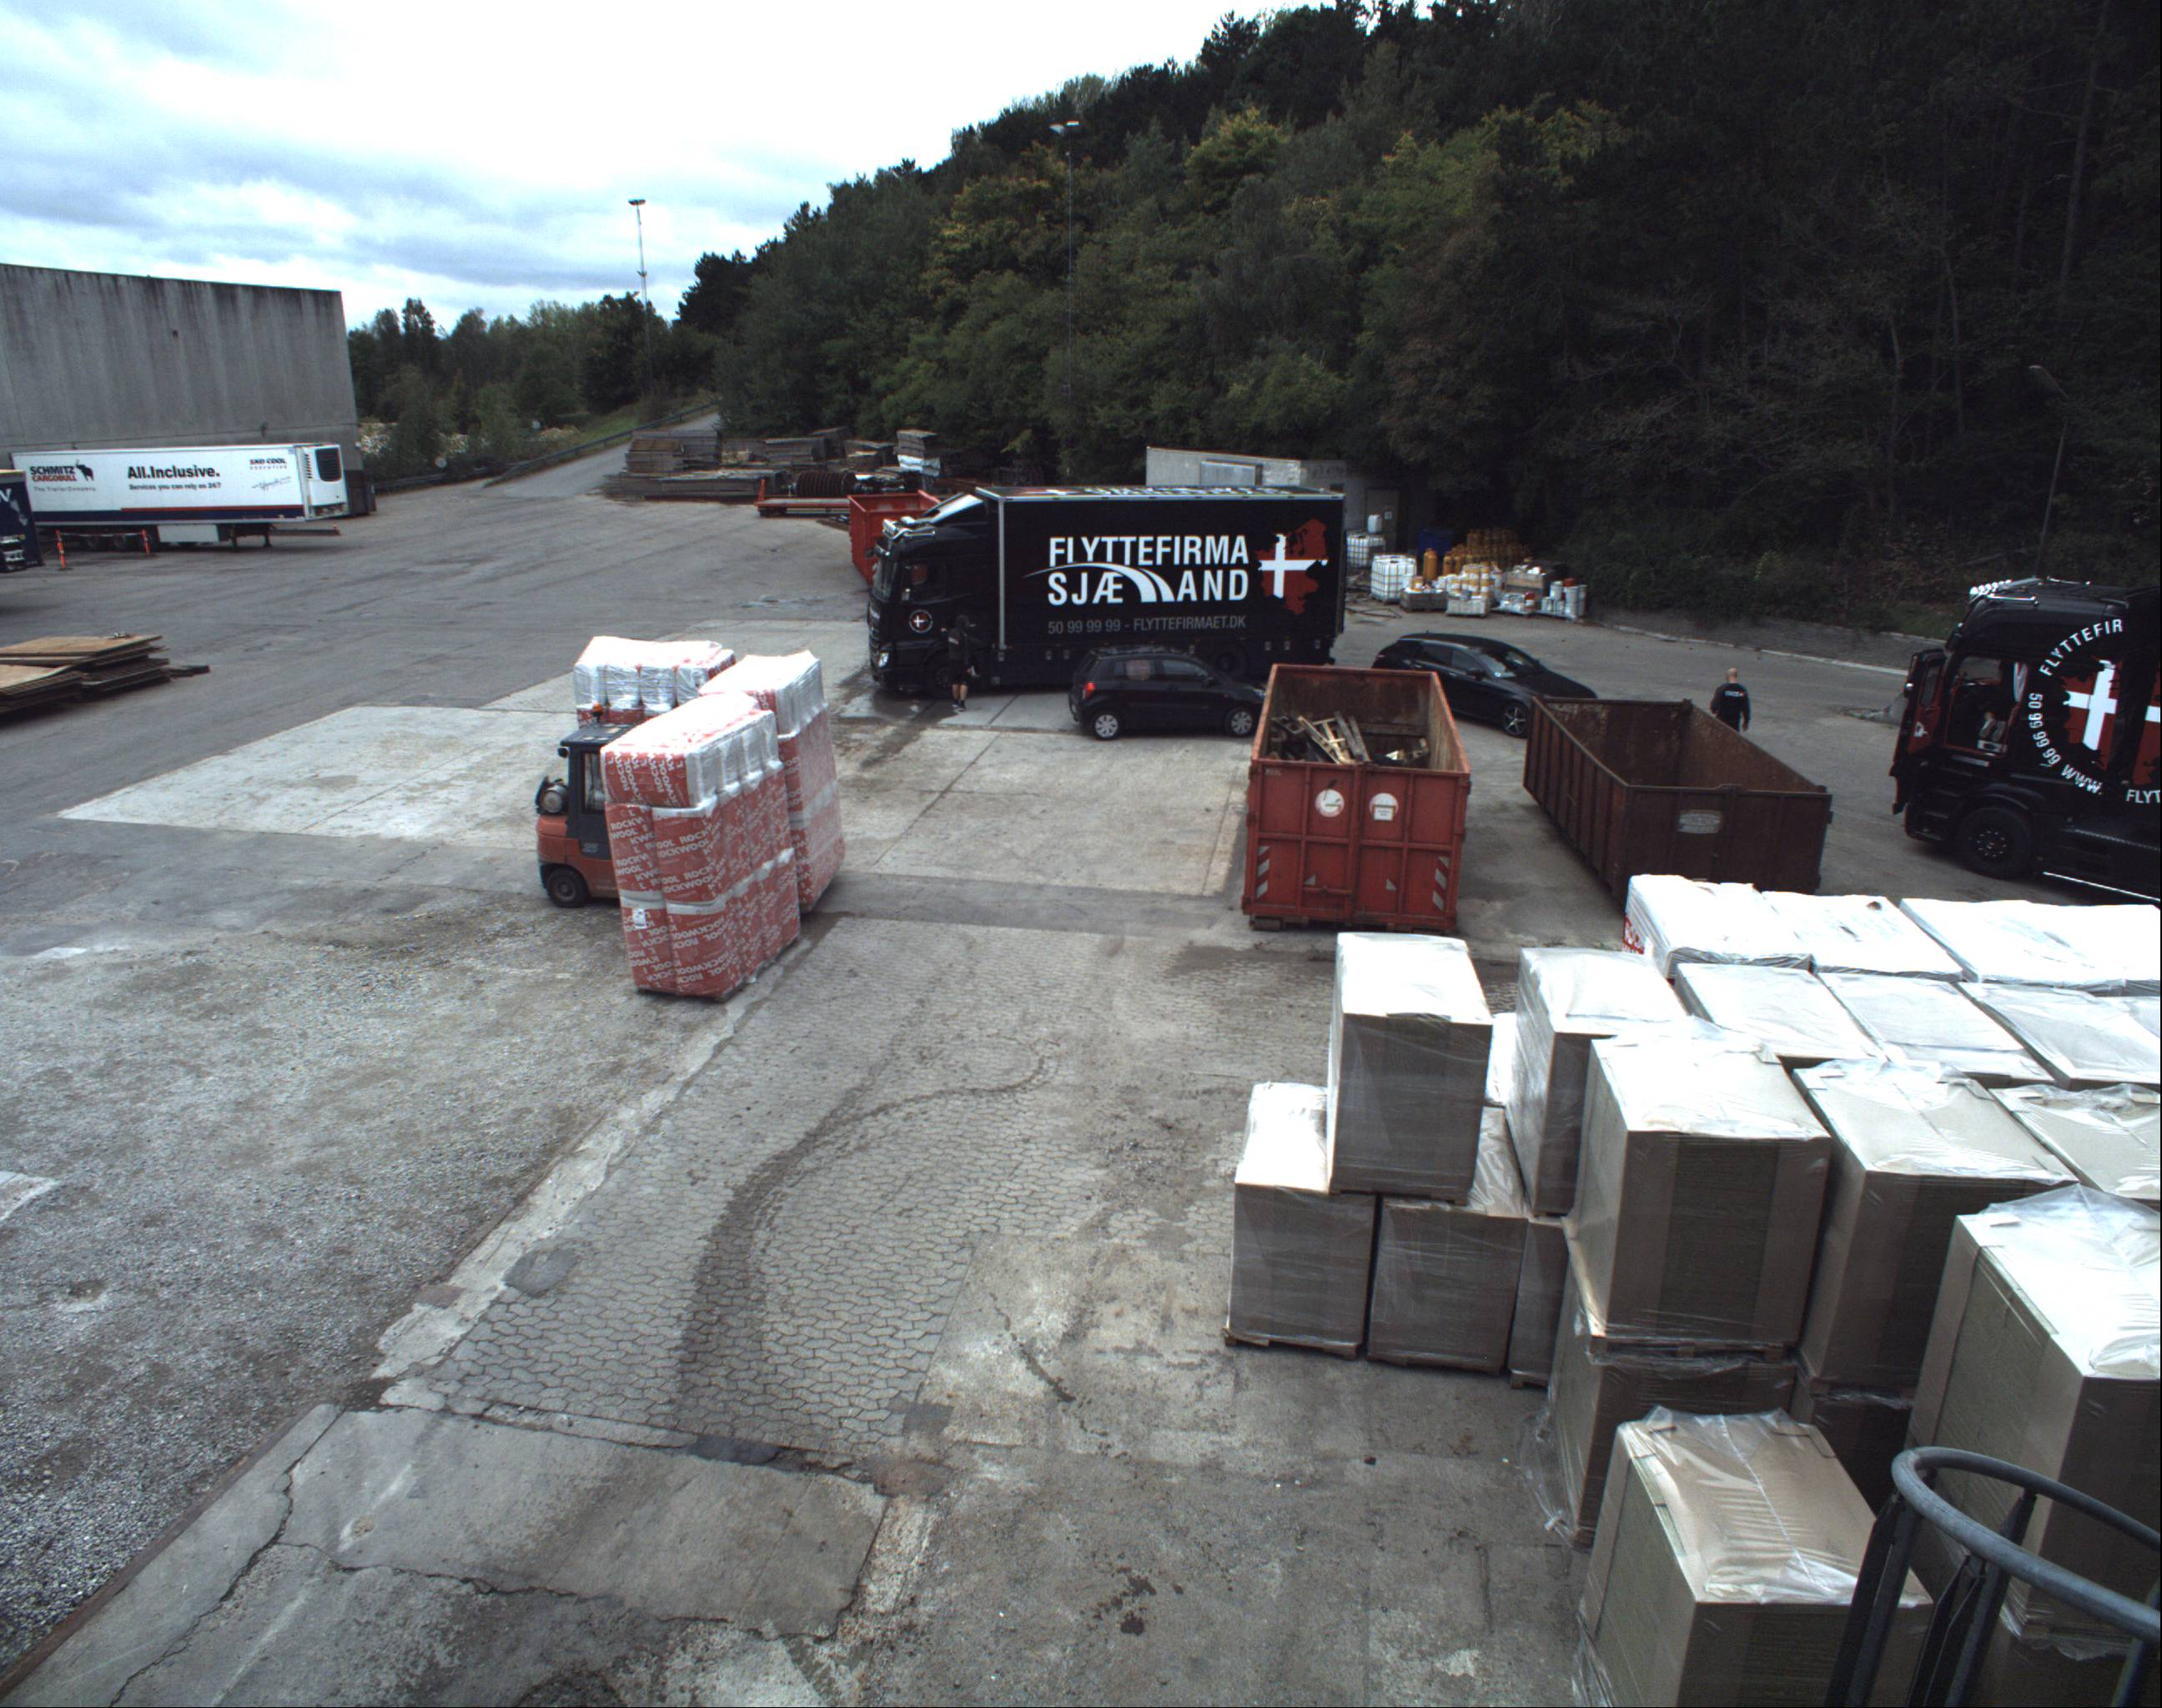rockwool_batts: (626, 702, 779, 992), (558, 620, 709, 851), (741, 649, 842, 892)
